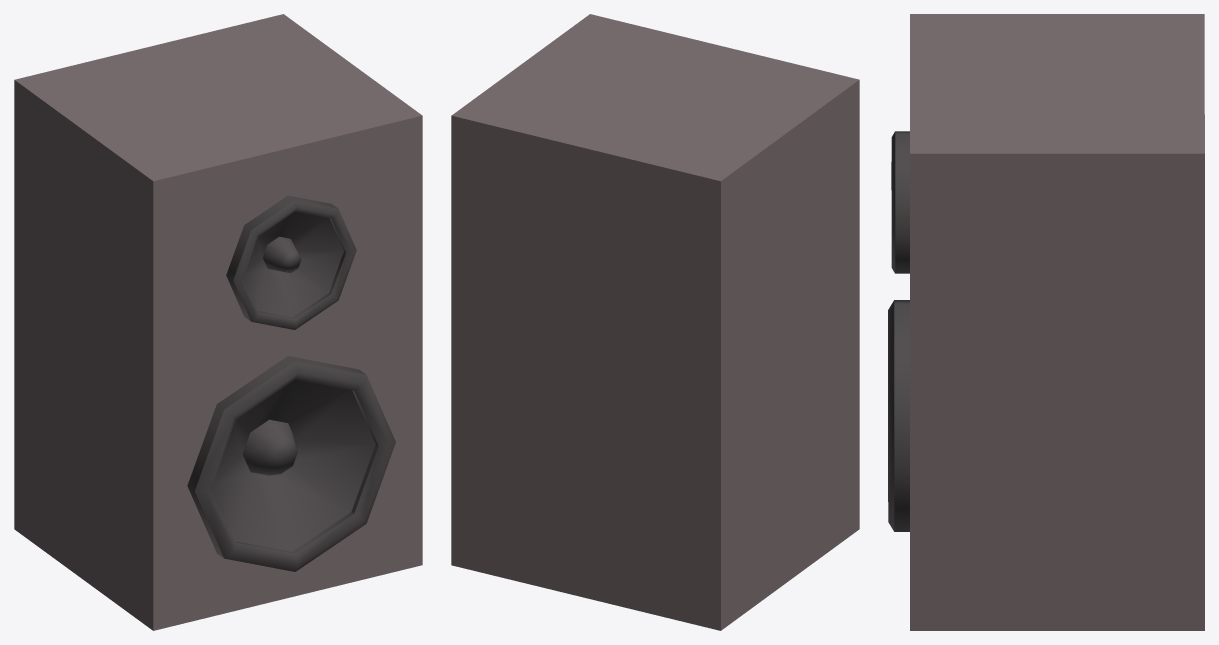
The model's file is SM_Speaker_1_06.fbx.
3 renders of one model, left to right at view 1: azimuth 30°, elevation 25°; view 2: azimuth 150°, elevation 25°; view 3: azimuth 270°, elevation 25°, orthographic. The views are drawn at different scales.
Visible parts, largest first — view 1: SM_Speaker_1_06; view 2: SM_Speaker_1_06; view 3: SM_Speaker_1_06.
Boxes of the visible parts, x1,y1,x2,y2 form: SM_Speaker_1_06: (14,14,422,630); SM_Speaker_1_06: (451,14,859,630); SM_Speaker_1_06: (888,14,1204,630).
Size of the model in its own units: 18.41 by 29.36 by 17.65.
